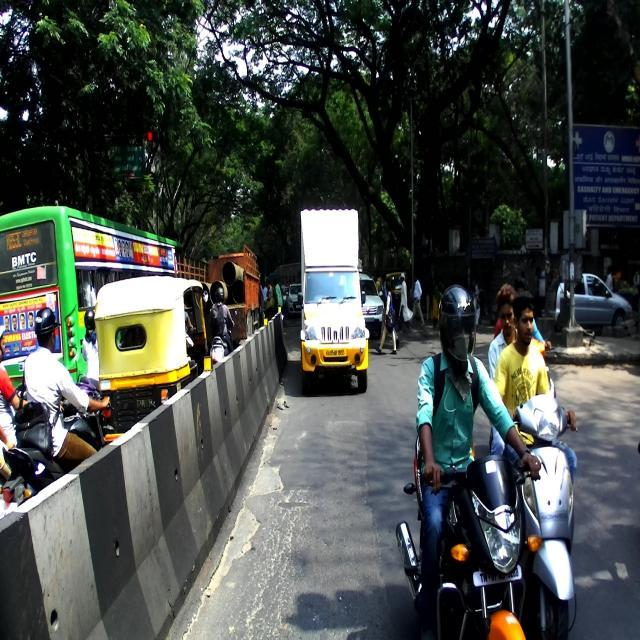pothole: (242, 486, 324, 640), (248, 409, 296, 487), (210, 542, 239, 590)
